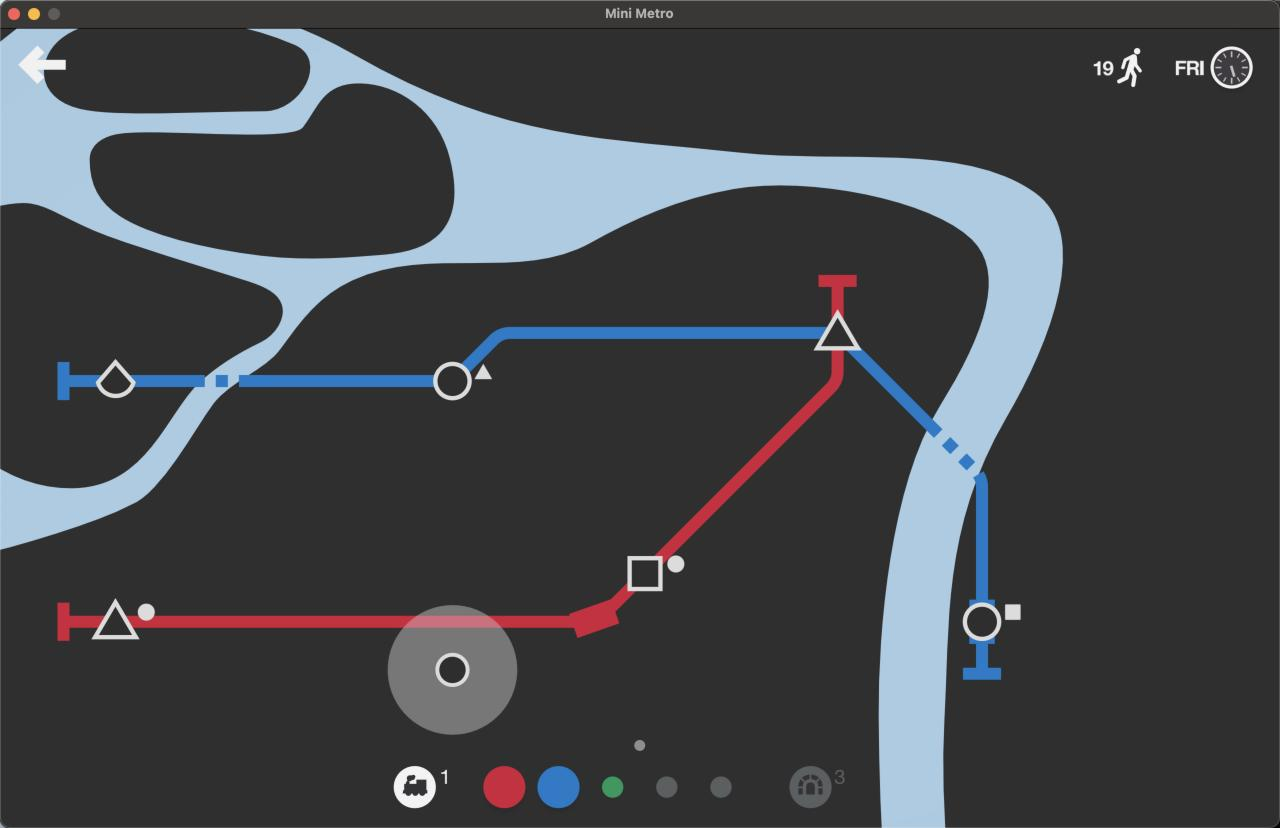CIRCLE: (432, 360, 473, 402), (963, 601, 1002, 641), (433, 652, 471, 689)
SQUARE: (626, 555, 664, 592)
TRIANGLE: (90, 597, 142, 641), (814, 308, 861, 352)
WEDGE: (95, 358, 136, 399)
